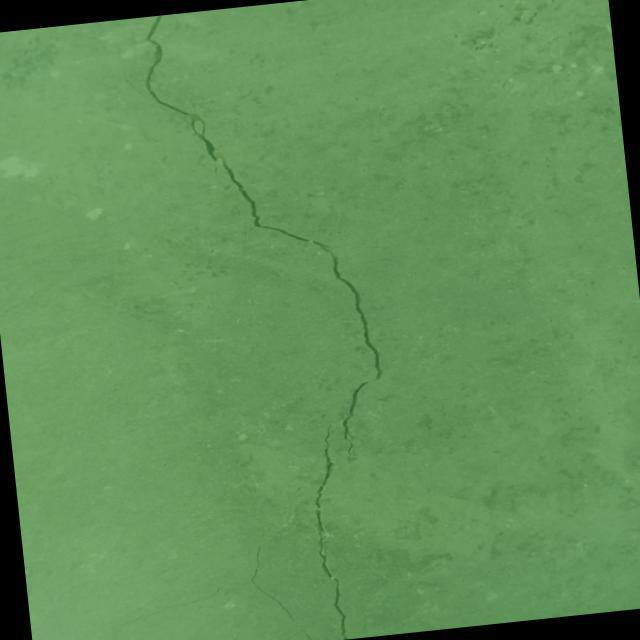crack: (118, 0, 392, 482), (304, 423, 355, 640), (245, 522, 315, 640)
